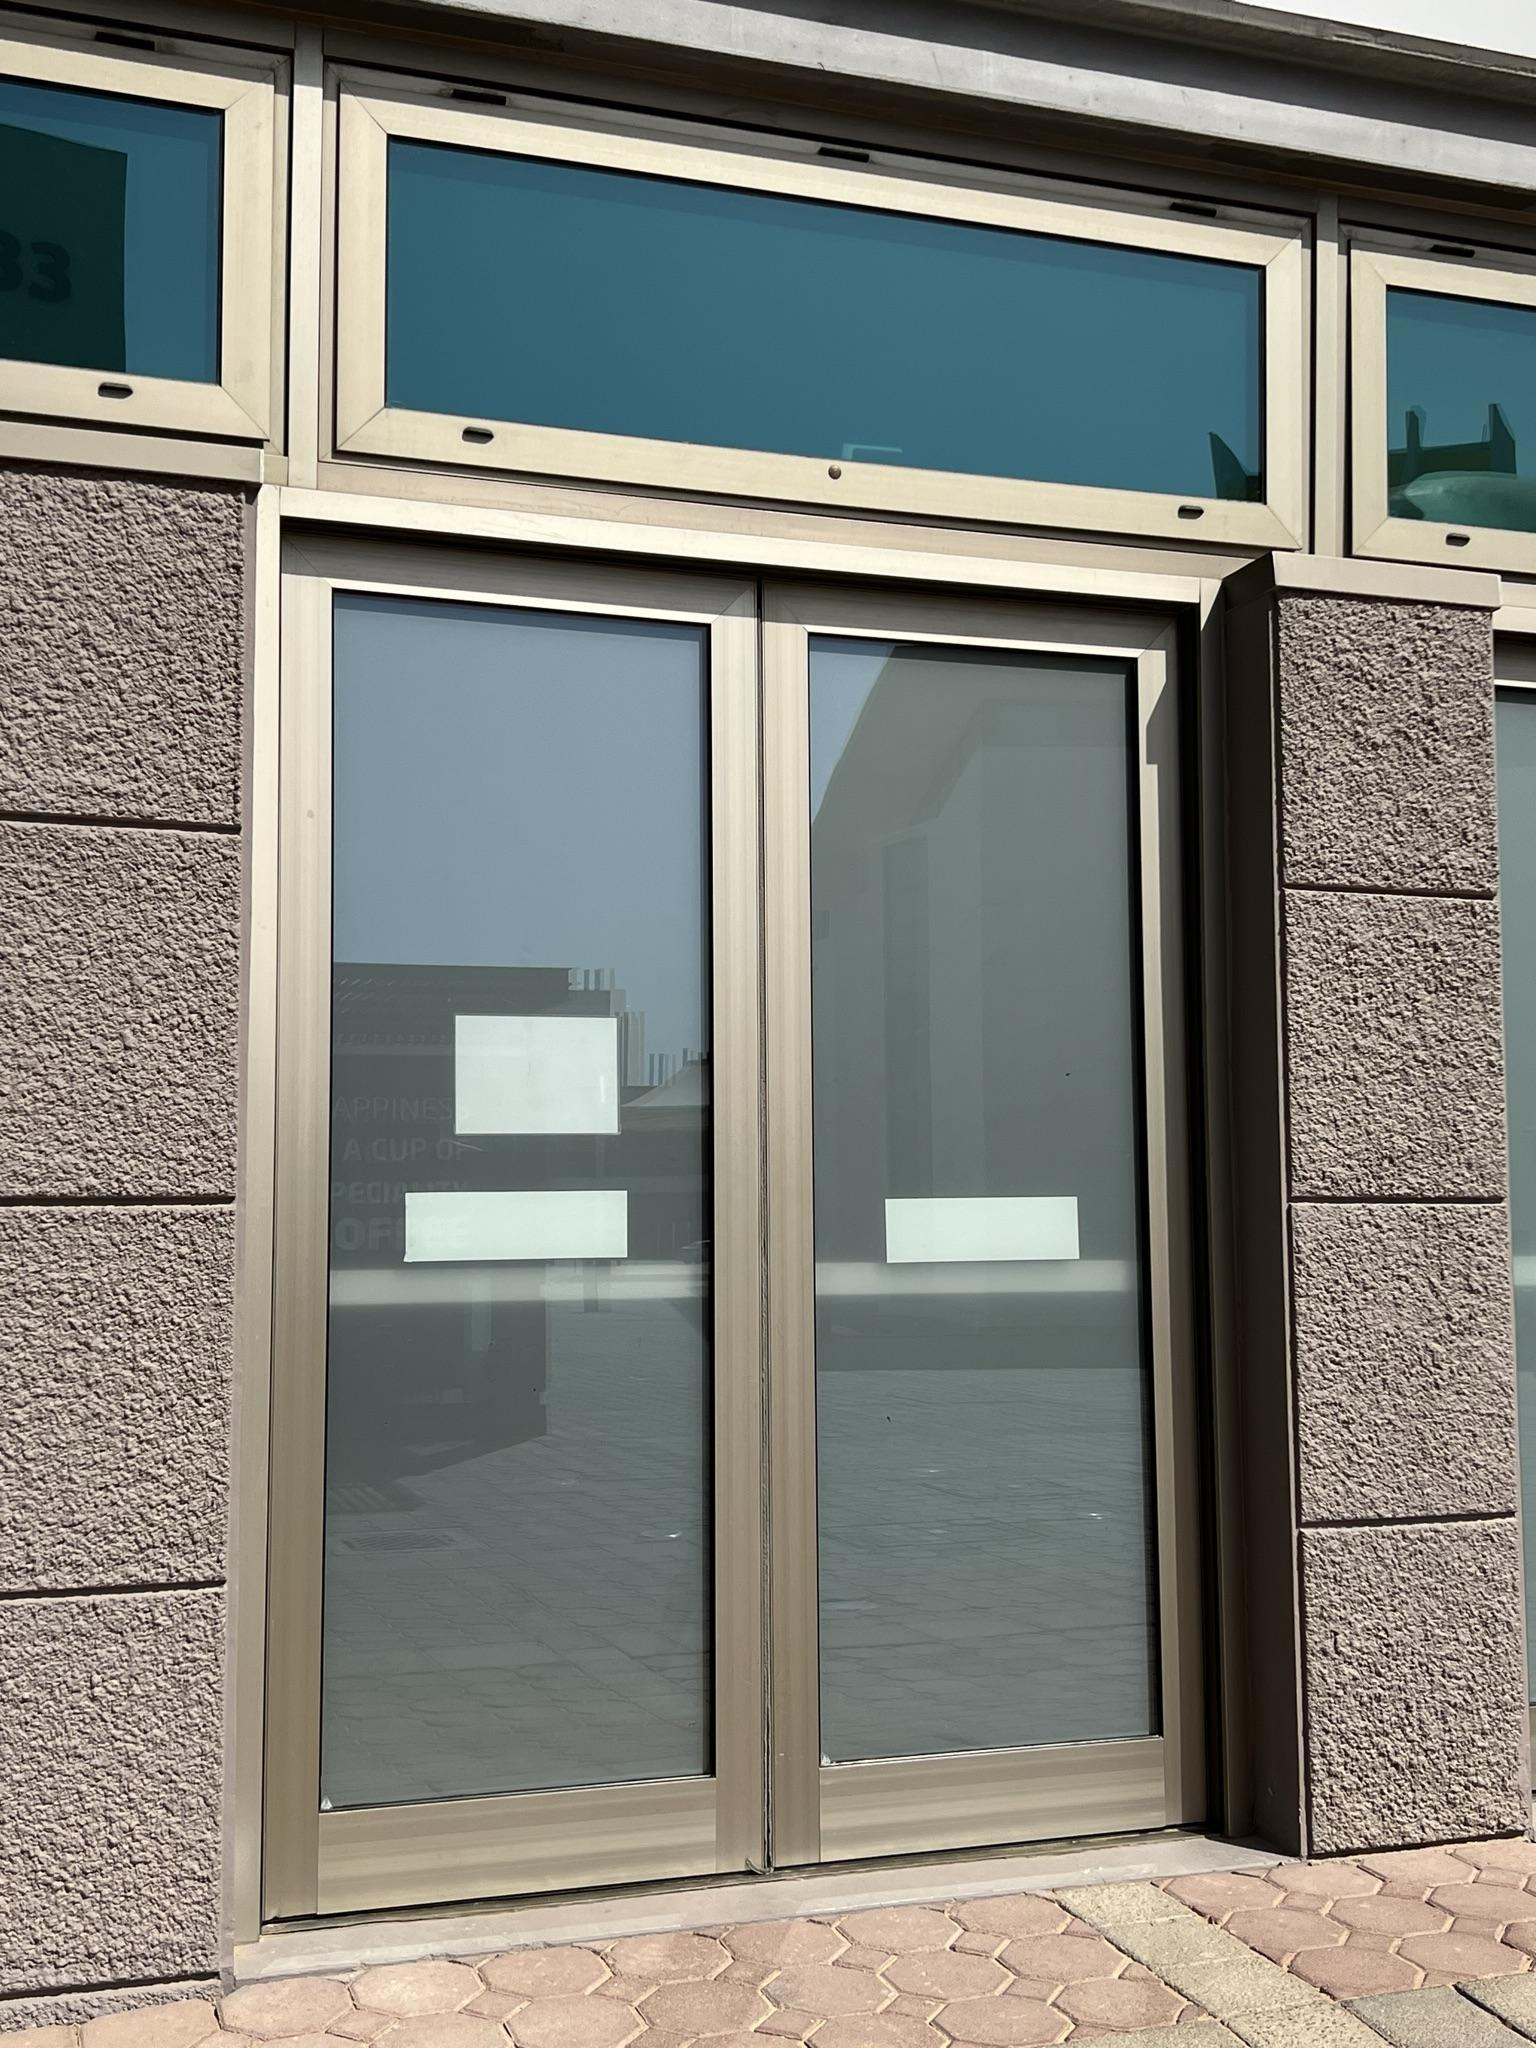door: (271, 576, 770, 1887), (766, 621, 1179, 1842)
